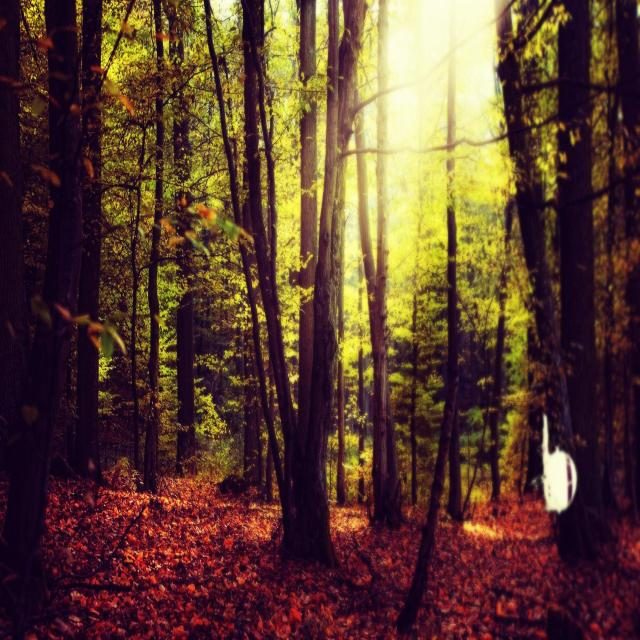airplane: (542, 413, 577, 513)
